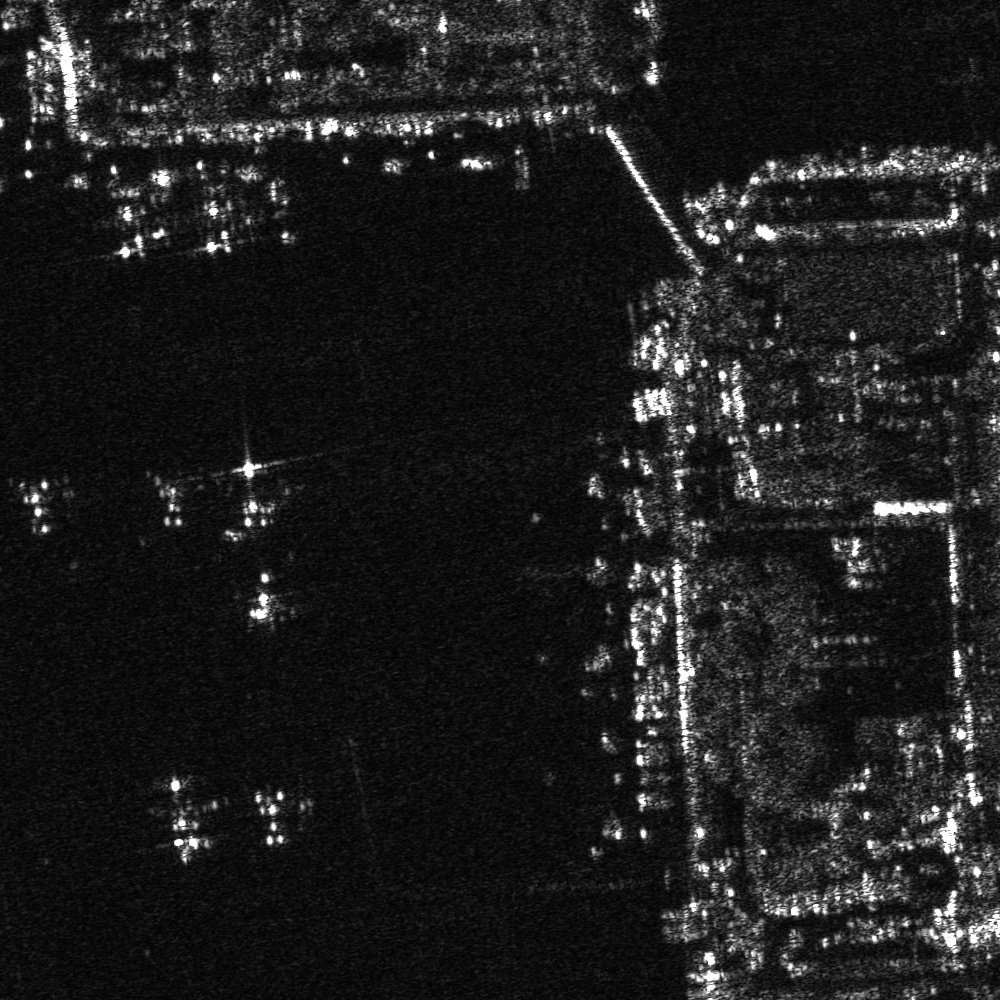A220: (242, 779, 302, 853)
ARJ21: (240, 565, 293, 636), (257, 163, 300, 245)
Boeing737: (92, 176, 180, 262)
other: (139, 767, 236, 868), (218, 444, 295, 550), (189, 172, 255, 255), (17, 478, 65, 547), (147, 474, 195, 540)
